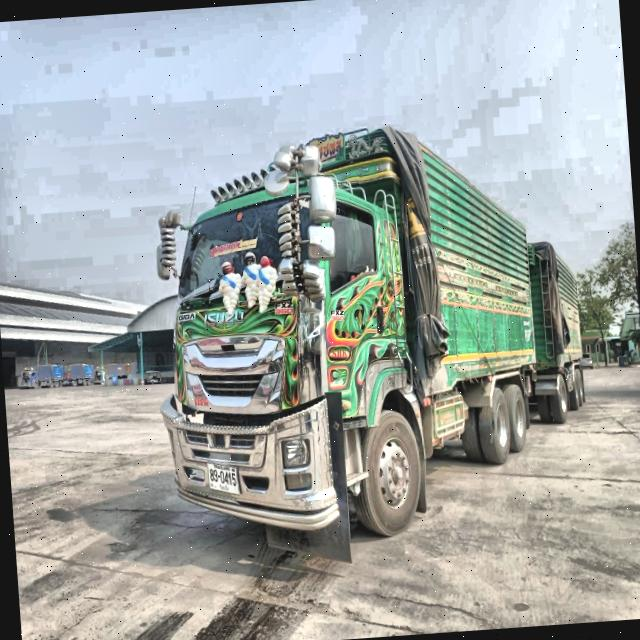trailer: (143, 101, 601, 574)
